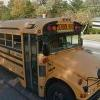Bus: (4, 12, 97, 97)
